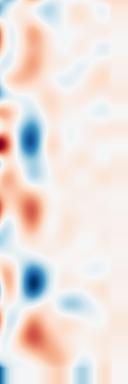filament: (15, 187, 58, 253)
